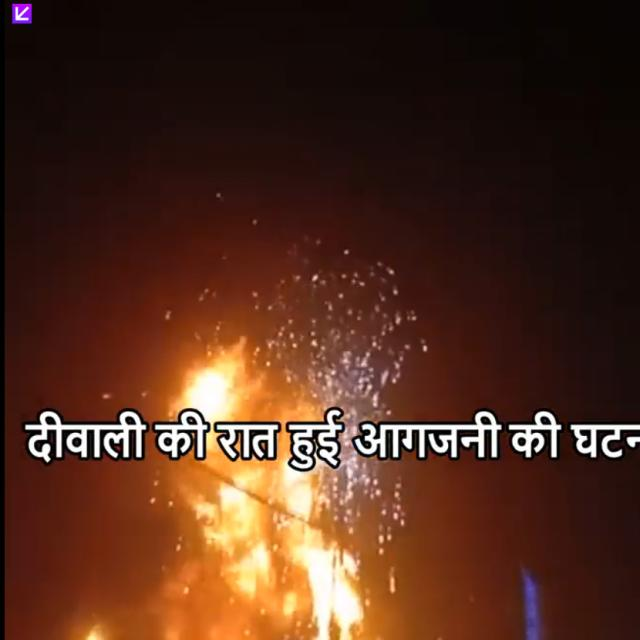fire: (166, 333, 271, 422), (290, 545, 363, 640), (220, 467, 271, 591), (276, 520, 337, 561), (284, 459, 311, 520)
